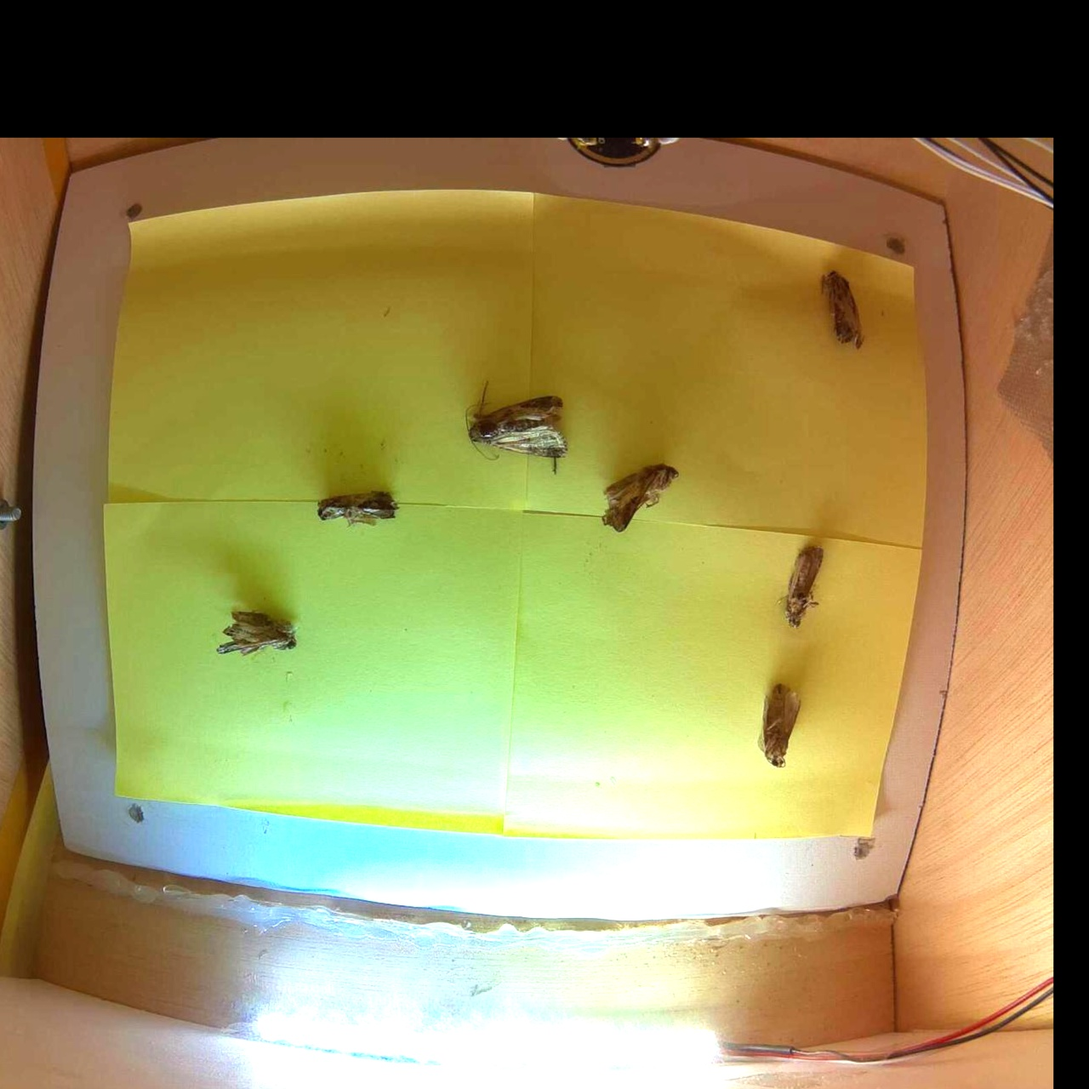Spodoptera litura: (466, 380, 567, 476), (602, 465, 679, 532), (214, 609, 301, 657), (783, 543, 826, 628), (820, 270, 865, 349), (762, 682, 801, 767), (316, 490, 399, 528)
